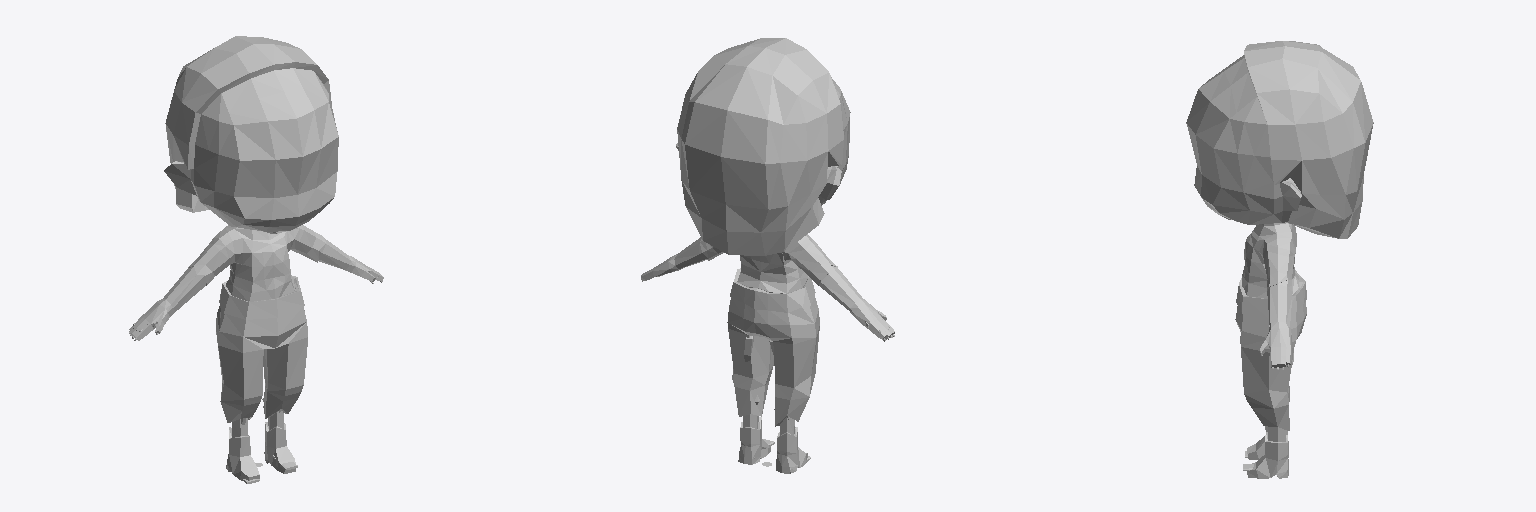
The model's file is personaje.obj.
3 views of the same model, side by side, from view 1: azimuth 30°, elevation 25°; view 2: azimuth 150°, elevation 25°; view 3: azimuth 270°, elevation 25° (orthographic).
Parts seen in each view (by area): view 1: pCube3; view 2: pCube3; view 3: pCube3.
Boxes of the visible parts, box(x1,y1,x2,y2) form: pCube3: box(129, 36, 383, 480); pCube3: box(641, 38, 894, 473); pCube3: box(1186, 41, 1373, 478).
Bounding box in the file's own units: 1.73 × 2.8 × 1.13.